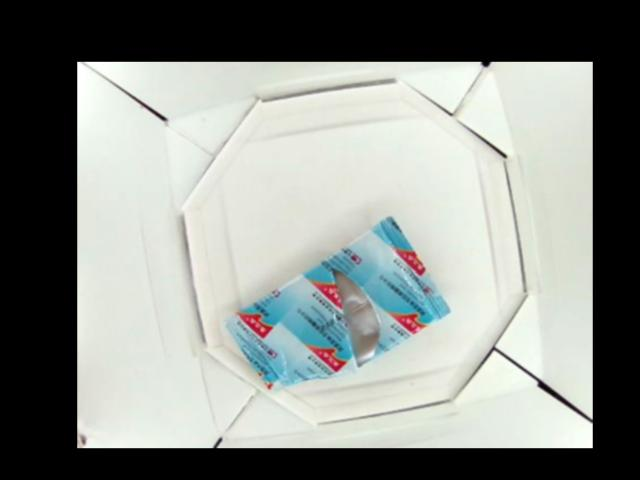Medicine: (231, 214, 452, 390)
